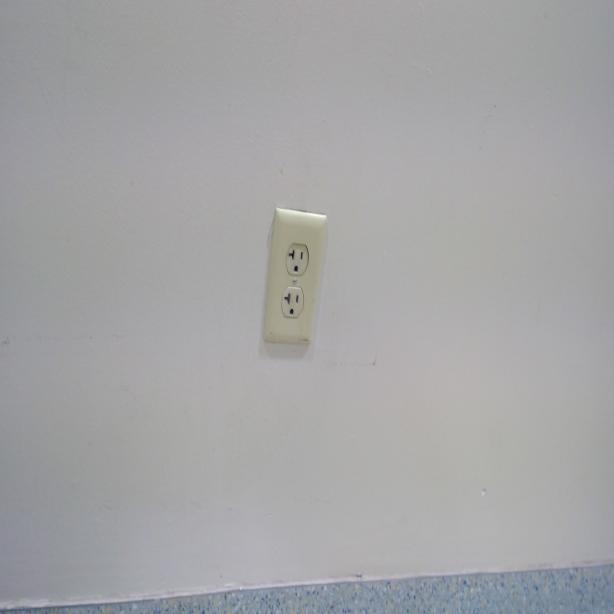typeb: (284, 240, 309, 277), (280, 287, 304, 320)
